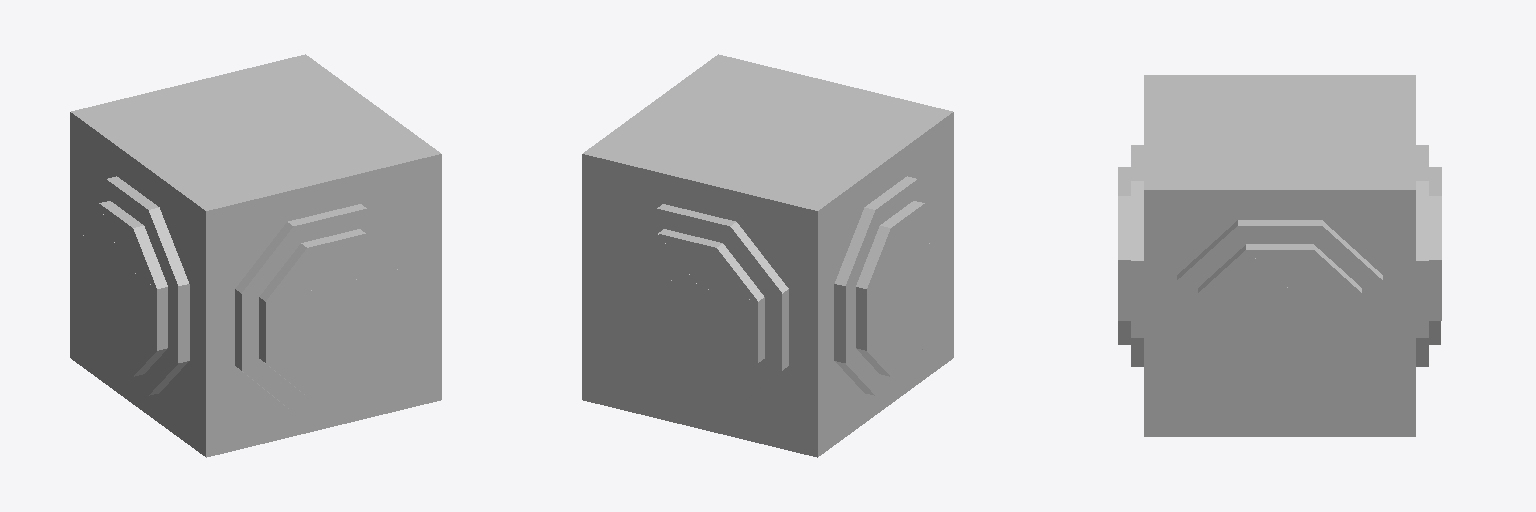
The model's file is tardis_roundel.obj.
3 views of the same model, side by side, from view 1: azimuth 30°, elevation 25°; view 2: azimuth 150°, elevation 25°; view 3: azimuth 270°, elevation 25° (orthographic).
Parts seen in each view (by area): view 1: base, cover_2_7, cover_2_5, cover_1_5, cover_2_6, cover_1_7, cover_2_3, outers_2_0_7, outers_2_0_3, cover_2_4, outers_1_0_5, outers_2_0_6 (+16 smaller); view 2: base, cover_0_7, cover_0_5, cover_1_7, cover_1_5, cover_0_6, cover_0_3, cover_1_6, outers_0_0_5, outers_0_0_3, cover_0_4, outers_1_0_7 (+16 smaller); view 3: base, cover_3_0, cover_3_6, cover_3_7, cover_3_4, cover_3_5, outers_3_0_3, cover_3_2, outers_3_0_7, outers_3_0_5, outers_3_0_2, outers_3_0_6 (+13 smaller).
Part boxes in pixels (left/top/right/bottom): base: left=70, top=54, right=441, bottom=457; cover_2_7: left=259, top=284, right=338, bottom=362; cover_2_5: left=339, top=267, right=407, bottom=344; cover_1_5: left=118, top=265, right=167, bottom=350; cover_2_6: left=260, top=244, right=358, bottom=314; cover_1_7: left=75, top=230, right=117, bottom=321; cover_2_3: left=301, top=229, right=365, bottom=280; outers_2_0_7: left=235, top=288, right=266, bottom=370; outers_2_0_3: left=288, top=204, right=366, bottom=251; cover_2_4: left=325, top=329, right=406, bottom=381; outers_1_0_5: left=164, top=276, right=189, bottom=362; outers_2_0_6: left=235, top=222, right=293, bottom=293; base: left=582, top=54, right=953, bottom=457; cover_0_7: left=616, top=267, right=689, bottom=346; cover_0_5: left=690, top=288, right=764, bottom=362; cover_1_7: left=856, top=259, right=908, bottom=350; cover_1_5: left=909, top=230, right=948, bottom=319; cover_0_6: left=617, top=234, right=709, bottom=315; cover_0_3: left=658, top=229, right=722, bottom=290; cover_1_6: left=856, top=226, right=920, bottom=289; outers_0_0_5: left=757, top=288, right=788, bottom=370; outers_0_0_3: left=657, top=204, right=735, bottom=251; cover_0_4: left=675, top=343, right=763, bottom=395; outers_1_0_7: left=834, top=276, right=859, bottom=362; base: left=1144, top=75, right=1415, bottom=436; cover_3_0: left=1198, top=293, right=1282, bottom=354; cover_3_6: left=1283, top=293, right=1361, bottom=354; cover_3_7: left=1198, top=245, right=1305, bottom=324; cover_3_4: left=1246, top=244, right=1313, bottom=292; cover_3_5: left=1266, top=355, right=1361, bottom=397; outers_3_0_3: left=1238, top=220, right=1321, bottom=250; cover_3_2: left=1246, top=355, right=1313, bottom=398; outers_3_0_7: left=1177, top=280, right=1205, bottom=356; outers_3_0_5: left=1354, top=280, right=1382, bottom=356; outers_3_0_2: left=1322, top=220, right=1382, bottom=279; outers_3_0_6: left=1177, top=220, right=1237, bottom=279.
Size of the model in its own units: 1.19 by 1 by 1.19.